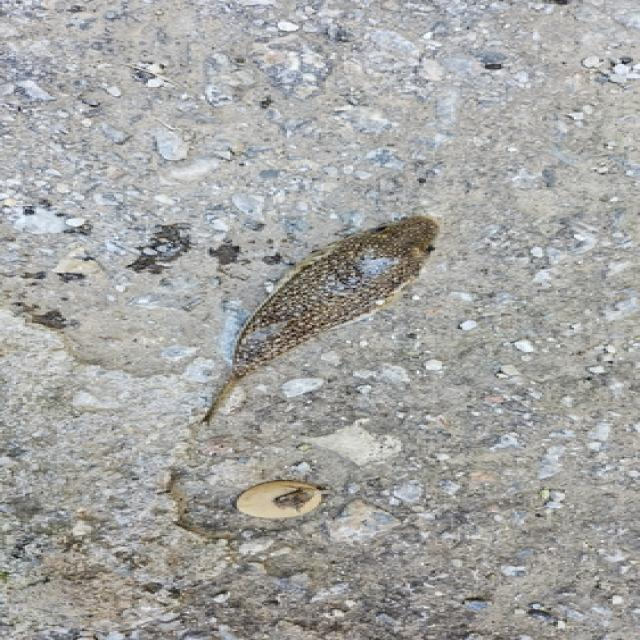Balik: (205, 217, 439, 421)
